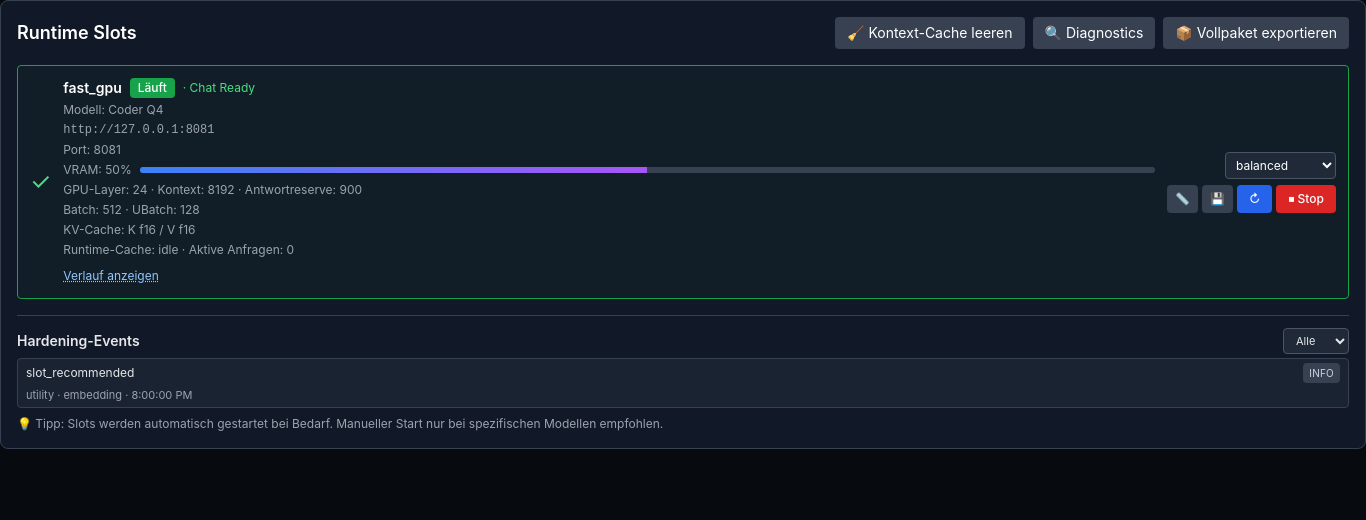
RuntimeSlotPanel › Verlauf anzeigen loads and renders persistent health history (Plan 15, Phase 6)
Click the button "Verlauf anzeigen" at (111, 276), box x1=63 y1=268 x2=159 y2=284
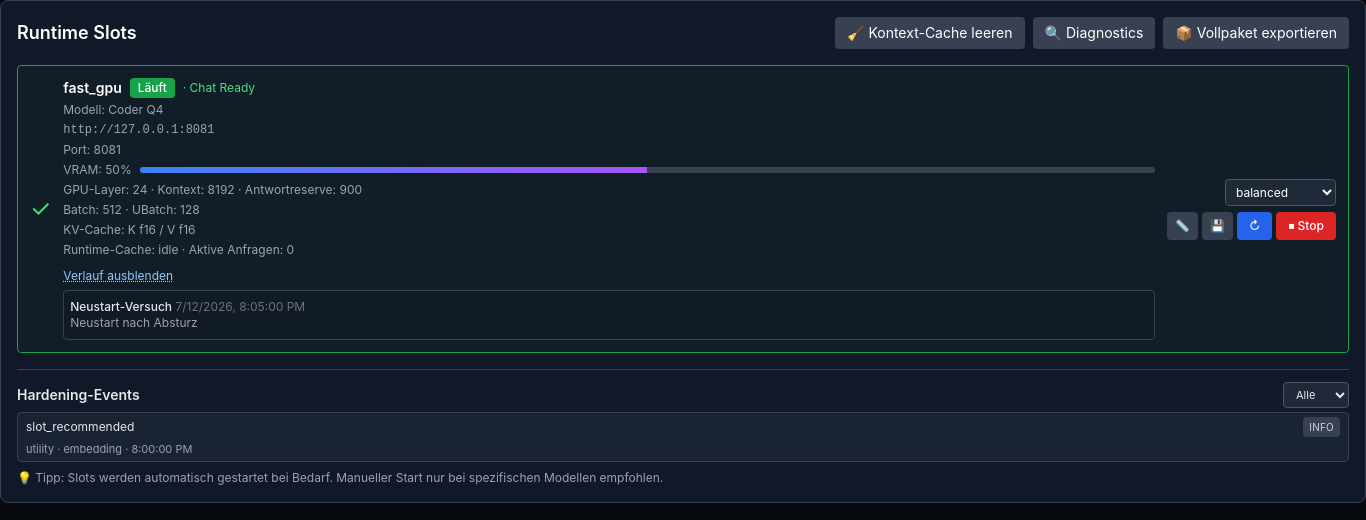
Check: the button "Verlauf ausblenden" is shown, box x1=63 y1=268 x2=173 y2=284
Check: the text "Neustart-Versuch" is shown, box x1=70 y1=299 x2=172 y2=314
Check: the text "Neustart nach Absturz" is shown, box x1=70 y1=315 x2=198 y2=330
